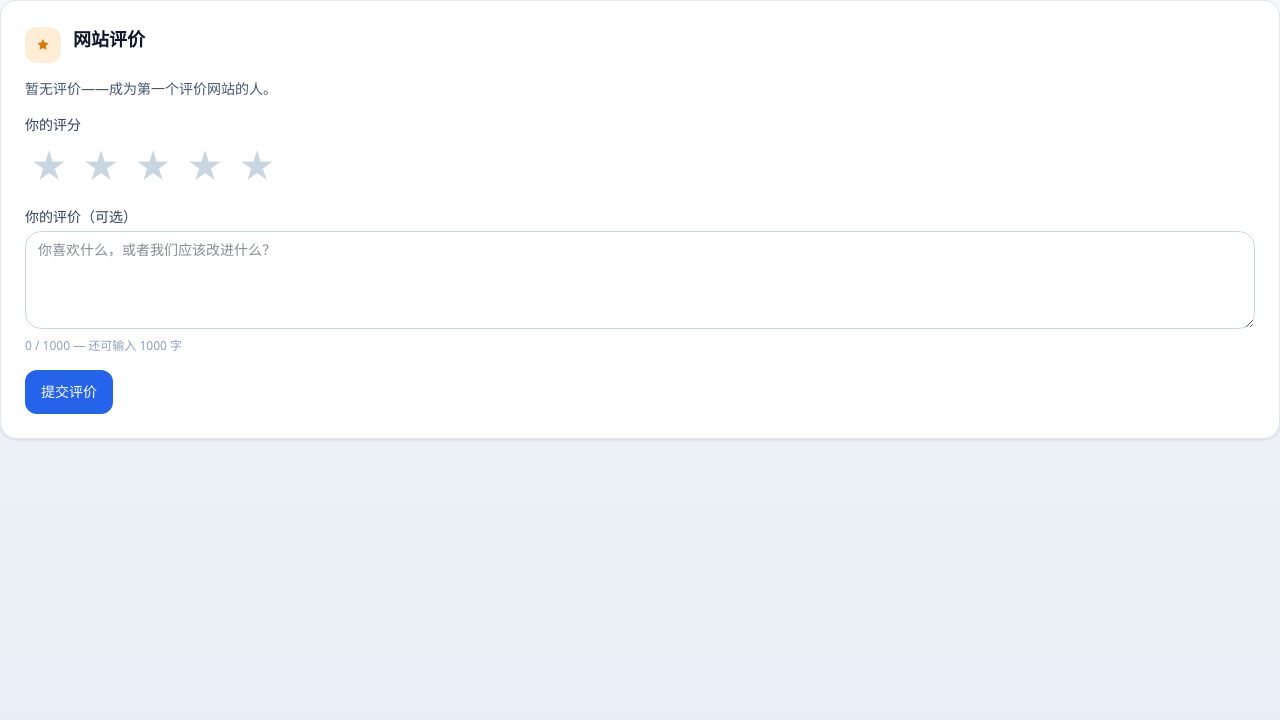
FeedbackForm › submits a 1-star rating
The image size is (1280, 720).
Check: the button "提交评价" is shown, box [25,370,113,414]
Click the radio button named "1 星" at (49, 167), box [25,143,73,191]
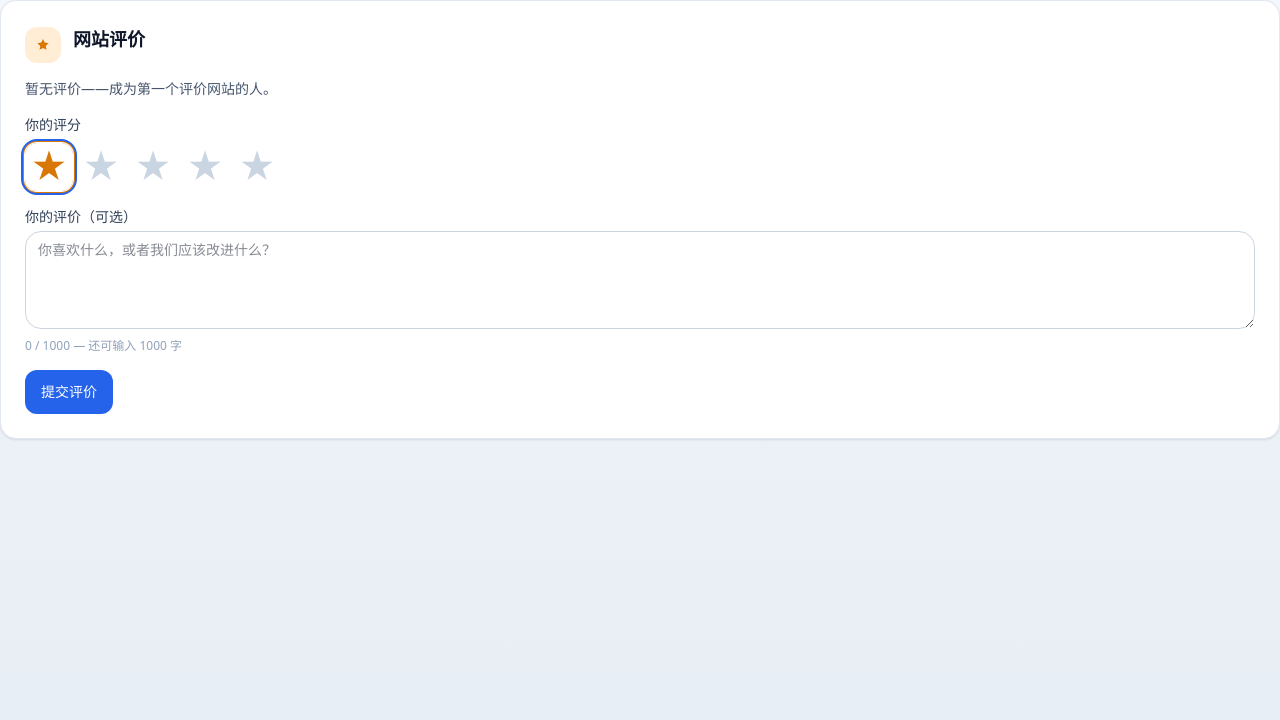
Type "needs work" into the text box at (640, 280), box [25,231,1255,329]
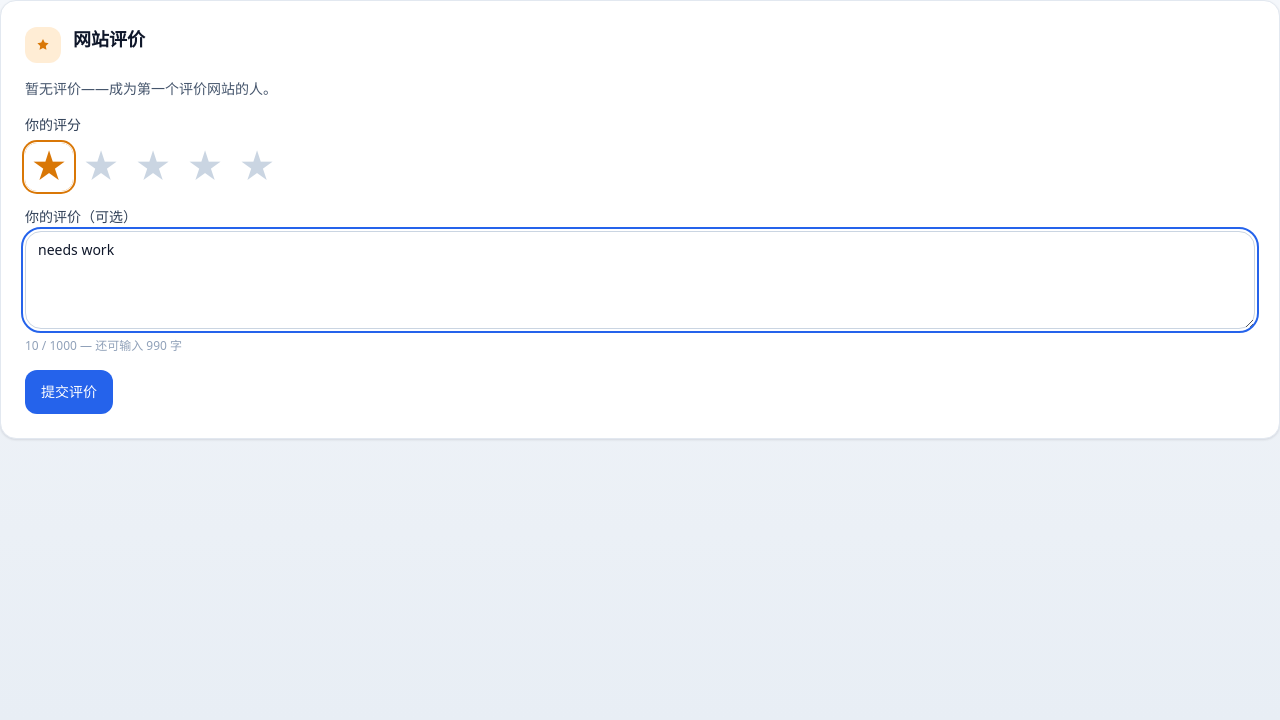
Click the button "提交评价" at (69, 392), box [25,370,113,414]
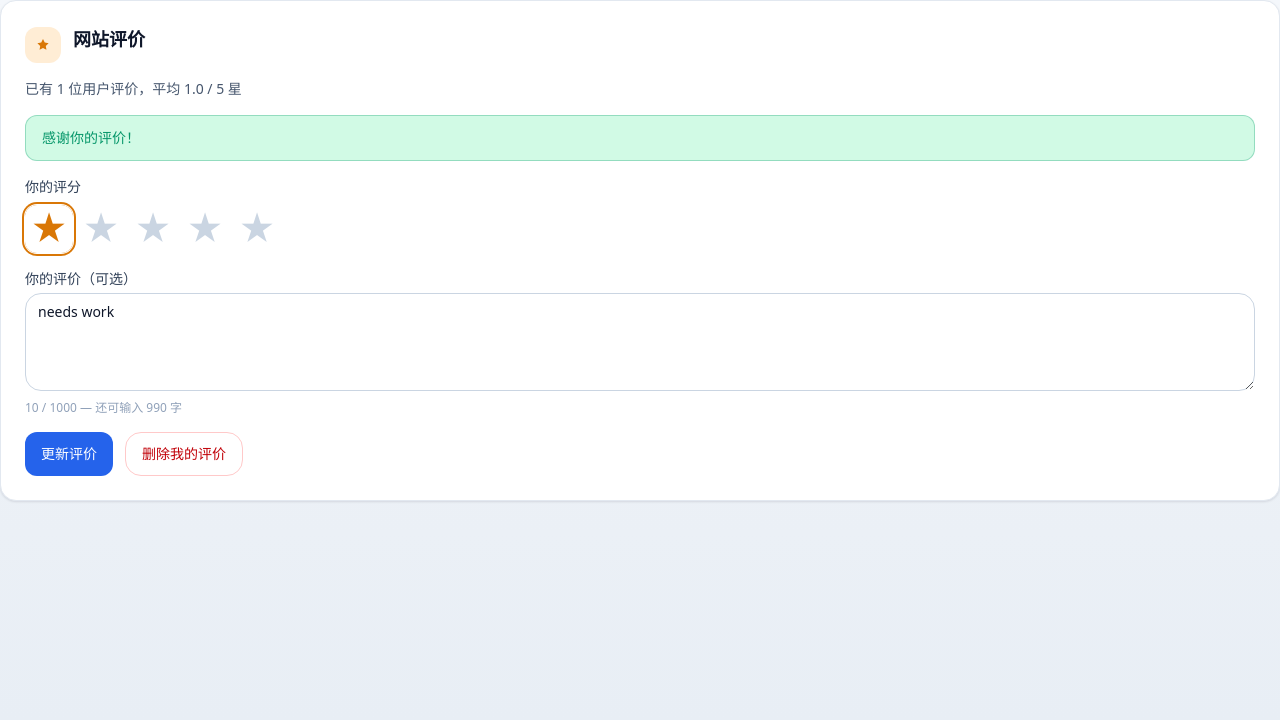
Check: the text "感谢你的评价！" is shown, box [25,115,1255,161]
